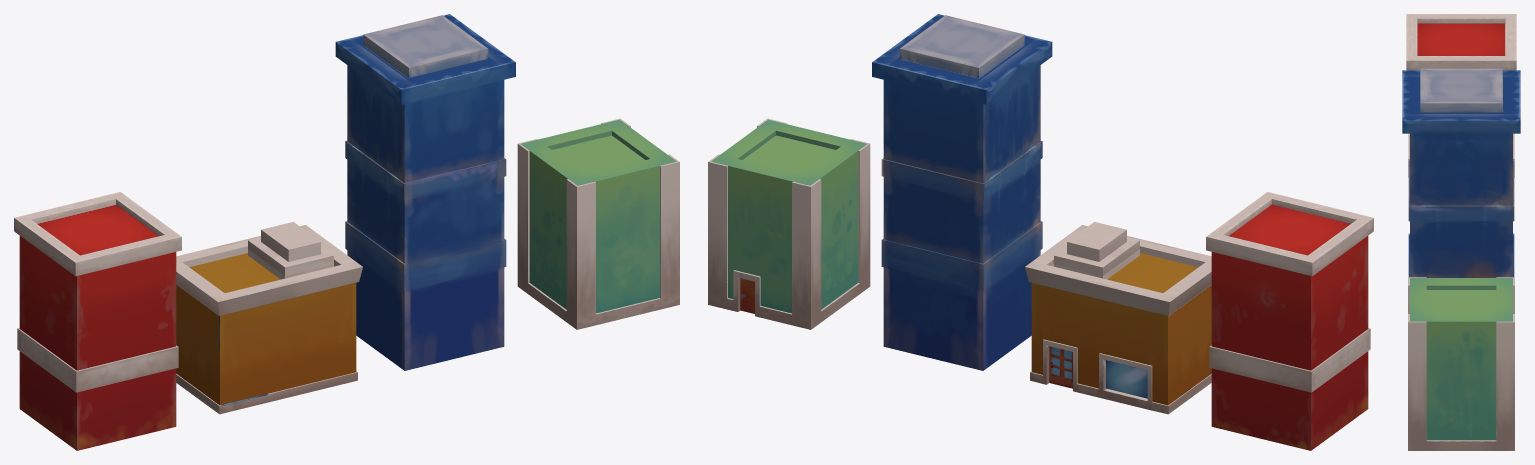
Rendered from Buildings.fbx.
The picture shows the model from 3 angles, left to right: view 1: azimuth 30°, elevation 25°; view 2: azimuth 150°, elevation 25°; view 3: azimuth 270°, elevation 25°; orthographic projection. The views are drawn at different scales.
Parts seen in each view (by area): view 1: Building_2.001, Building_1.001, Building_4.001, Building_3.001; view 2: Building_2.001, Building_1.001, Building_4.001, Building_3.001; view 3: Building_2.001, Building_4.001, Building_1.001.
Part boxes in pixels (left/top/right/bottom): Building_2.001: left=335, top=14, right=515, bottom=370; Building_1.001: left=14, top=192, right=181, bottom=450; Building_4.001: left=517, top=118, right=679, bottom=329; Building_3.001: left=176, top=222, right=362, bottom=414; Building_2.001: left=872, top=14, right=1052, bottom=370; Building_1.001: left=1206, top=192, right=1373, bottom=450; Building_4.001: left=708, top=118, right=870, bottom=329; Building_3.001: left=1025, top=222, right=1211, bottom=414; Building_2.001: left=1402, top=68, right=1520, bottom=277; Building_4.001: left=1408, top=277, right=1514, bottom=450; Building_1.001: left=1406, top=14, right=1516, bottom=177.
Size of the model in its own units: 6650 by 3110 by 1254.
